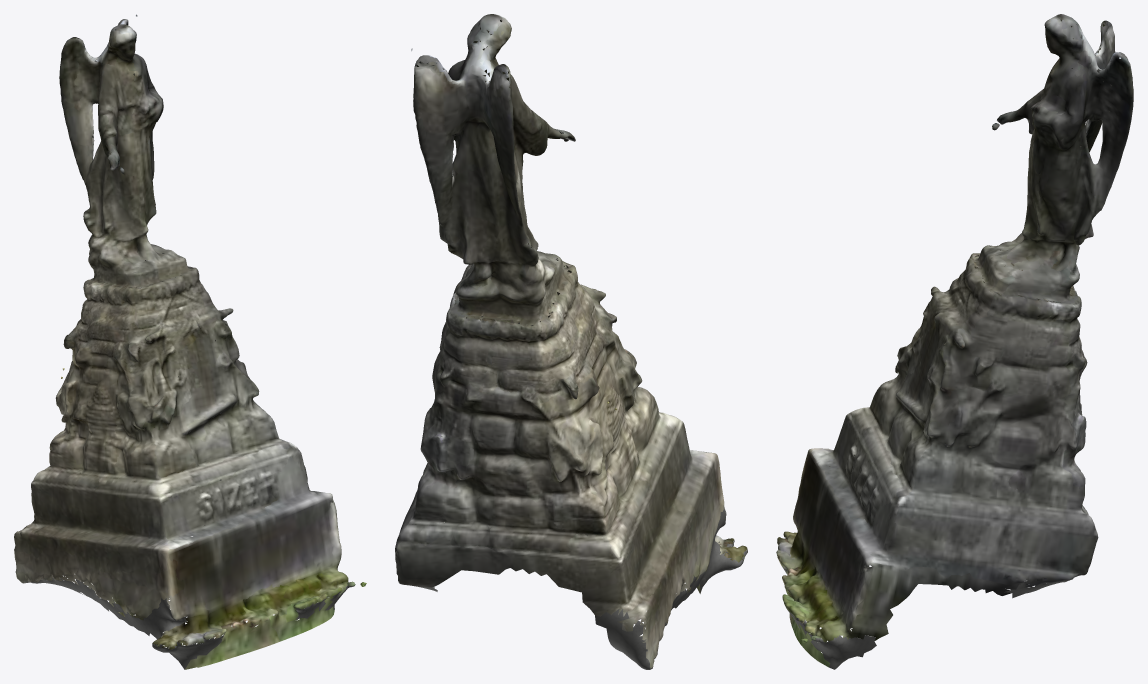
Rendered from angel_vcu.glb.
The picture shows the model from 3 angles, left to right: view 1: azimuth 30°, elevation 25°; view 2: azimuth 150°, elevation 25°; view 3: azimuth 270°, elevation 25°; orthographic projection. The views are drawn at different scales.
Parts seen in each view (by area): view 1: Object_2, Object_4; view 2: Object_2, Object_4; view 3: Object_2, Object_4.
Boxes of the visible parts, <box> form: Object_2: <box>14,14,366,669</box>; Object_4: <box>15,19,365,669</box>; Object_2: <box>395,14,747,668</box>; Object_4: <box>399,55,747,669</box>; Object_2: <box>776,14,1133,667</box>; Object_4: <box>782,22,1129,669</box>.
Bounding box in the file's own units: 2.3 × 4.89 × 2.62.
2 materials, 2 textured.
